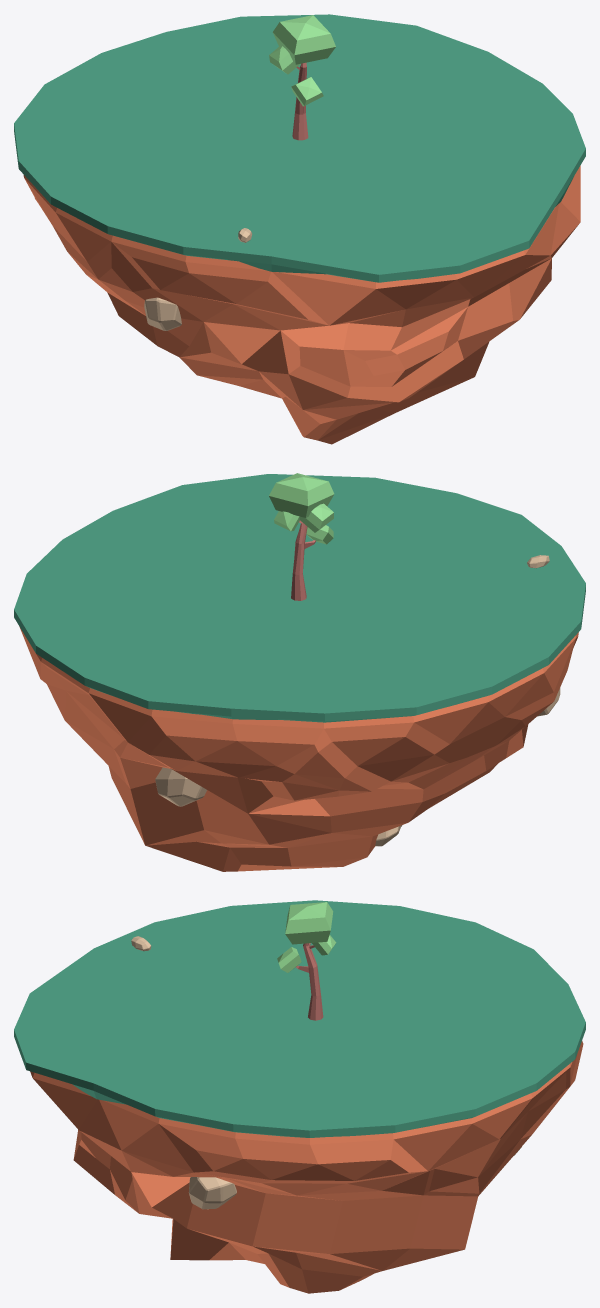
The model's file is island_rock_tree.fbx.
3 views of the same model, one above another, from view 1: azimuth 30°, elevation 25°; view 2: azimuth 150°, elevation 25°; view 3: azimuth 270°, elevation 25° (orthographic). The views are drawn at different scales.
Visible parts, largest first — view 1: Икосфера.001, Икосфера, Плоскость, Куб, Цилиндр, Плоскость.002; view 2: Икосфера.001, Икосфера, Плоскость, Куб.003, Цилиндр, Плоскость.001; view 3: Икосфера.001, Икосфера, Плоскость, Куб.002, Цилиндр.
Part boxes in pixels (x1,y1,x2,y2): Икосфера.001: (14,14,585,282); Икосфера: (23,165,580,444); Плоскость: (272,15,335,64); Куб: (144,297,181,330); Цилиндр: (292,62,308,140); Плоскость.002: (291,77,323,106); Икосфера.001: (14,474,585,722); Икосфера: (19,626,578,871); Плоскость: (269,473,334,517); Куб.003: (155,767,206,806); Цилиндр: (291,520,315,600); Плоскость.001: (299,503,333,532); Икосфера.001: (14,900,585,1137); Икосфера: (30,1041,583,1293); Плоскость: (285,902,333,944); Куб.002: (188,1177,236,1209); Цилиндр: (295,943,323,1020).
Bounding box in the file's own units: 2458 × 1785 × 2620.
